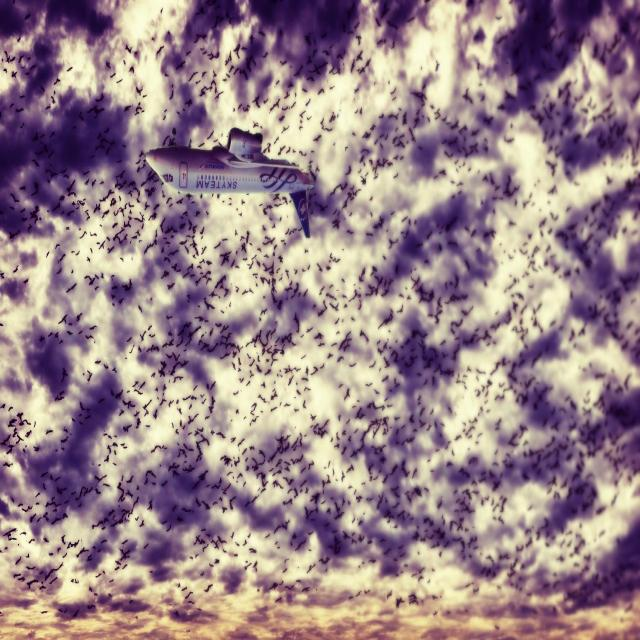airplane: (144, 125, 315, 238)
